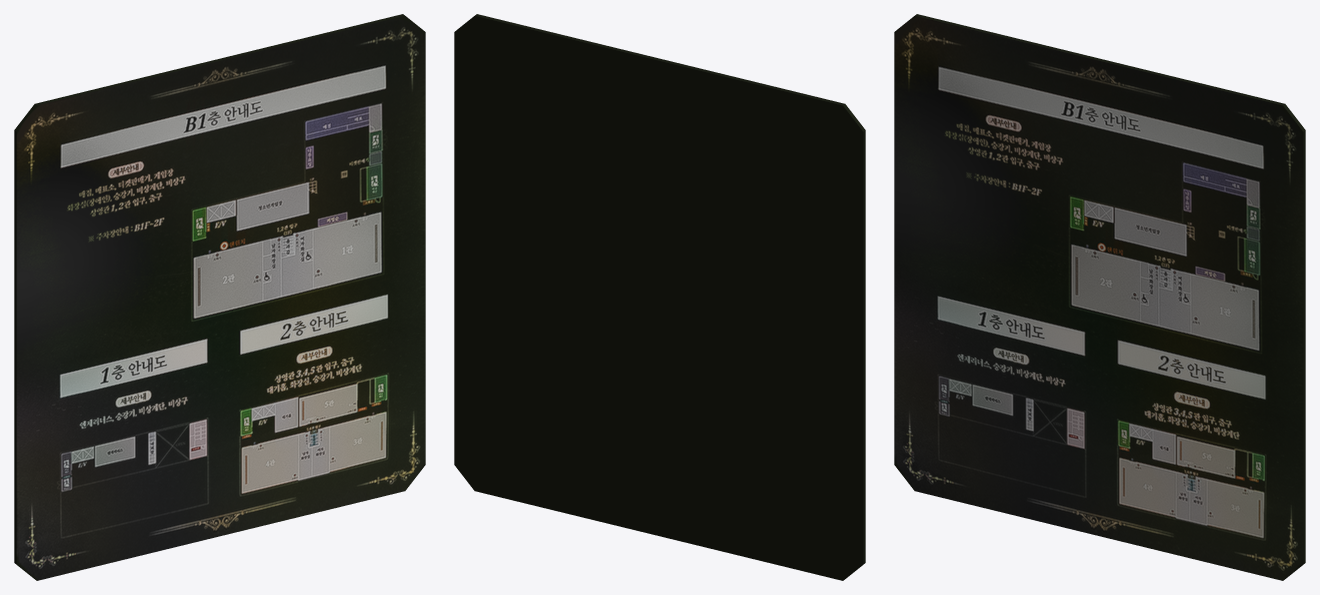
The model's file is LC_3109_Guidemap_B_LOD1.FBX.
3 renders of one model, left to right at view 1: azimuth 30°, elevation 25°; view 2: azimuth 150°, elevation 25°; view 3: azimuth 330°, elevation 25°, orthographic.
Parts seen in each view (by area): view 1: LC_3109_Guidemap_B_LOD1; view 2: LC_3109_Guidemap_B_LOD1; view 3: LC_3109_Guidemap_B_LOD1.
Part boxes in pixels (bbox=[...]): LC_3109_Guidemap_B_LOD1: bbox=[14, 14, 425, 580]; LC_3109_Guidemap_B_LOD1: bbox=[454, 14, 865, 580]; LC_3109_Guidemap_B_LOD1: bbox=[894, 14, 1305, 580].
Bounding box in the file's own units: 100 × 112 × 1.
Materials: 1 (1 with a texture image).
